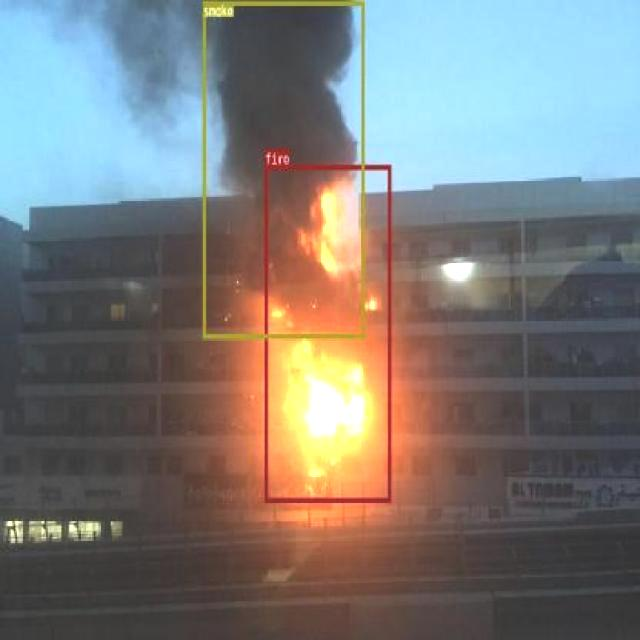fire: (264, 163, 390, 502)
smoke: (202, 0, 364, 338)
